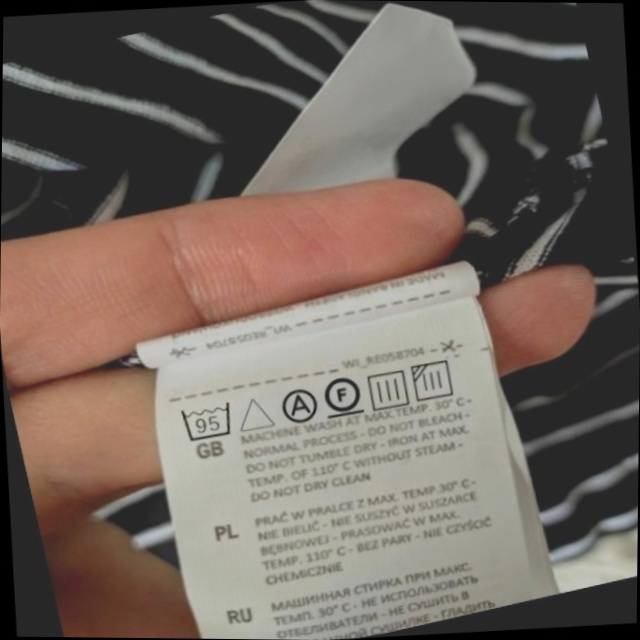95C: (176, 395, 241, 447)
bleach: (233, 388, 277, 438)
drip_dry: (361, 363, 415, 415)
drip_dry_in_shade: (407, 353, 463, 408)
dry_clean: (275, 383, 322, 429)
dry_clean_petrol_only: (318, 368, 368, 423)
